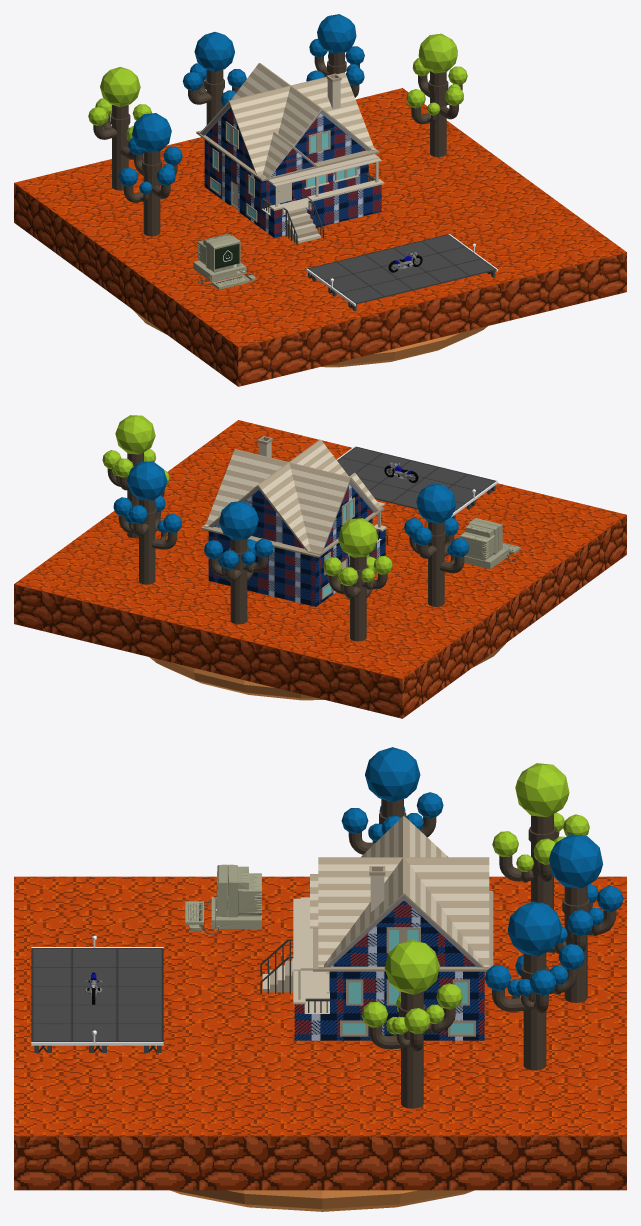
The picture shows the model from 3 angles, top to bottom: view 1: azimuth 30°, elevation 25°; view 2: azimuth 150°, elevation 25°; view 3: azimuth 270°, elevation 25°; orthographic projection. The views are drawn at different scales.
Parts seen in each view (by area): view 1: Cube.001, Cube.171, OBJRANDOM_RETRO_PC, UNDERGROUND_PIZZA; view 2: Cube.001, Cube.171, OBJRANDOM_RETRO_PC, UNDERGROUND_PIZZA; view 3: Cube.001, Cube.171, UNDERGROUND_PIZZA, OBJRANDOM_RETRO_PC.
Part boxes in pixels (x1=…): Cube.001: x1=14, y1=14, x2=626, y2=386; Cube.171: x1=196, y1=63, x2=384, y2=244; OBJRANDOM_RETRO_PC: x1=193, y1=233, x2=255, y2=289; UNDERGROUND_PIZZA: x1=132, y1=309, x2=487, y2=367; Cube.001: x1=14, y1=415, x2=626, y2=718; Cube.171: x1=201, y1=436, x2=387, y2=606; OBJRANDOM_RETRO_PC: x1=459, y1=518, x2=520, y2=569; UNDERGROUND_PIZZA: x1=149, y1=643, x2=505, y2=700; Cube.001: x1=14, y1=747, x2=626, y2=1190; Cube.171: x1=260, y1=816, x2=493, y2=1040; UNDERGROUND_PIZZA: x1=170, y1=1190, x2=474, y2=1211; OBJRANDOM_RETRO_PC: x1=185, y1=864, x2=261, y2=934.
Size of the model in its own units: 4000 by 1875 by 4000.
30 materials, 5 textured.
